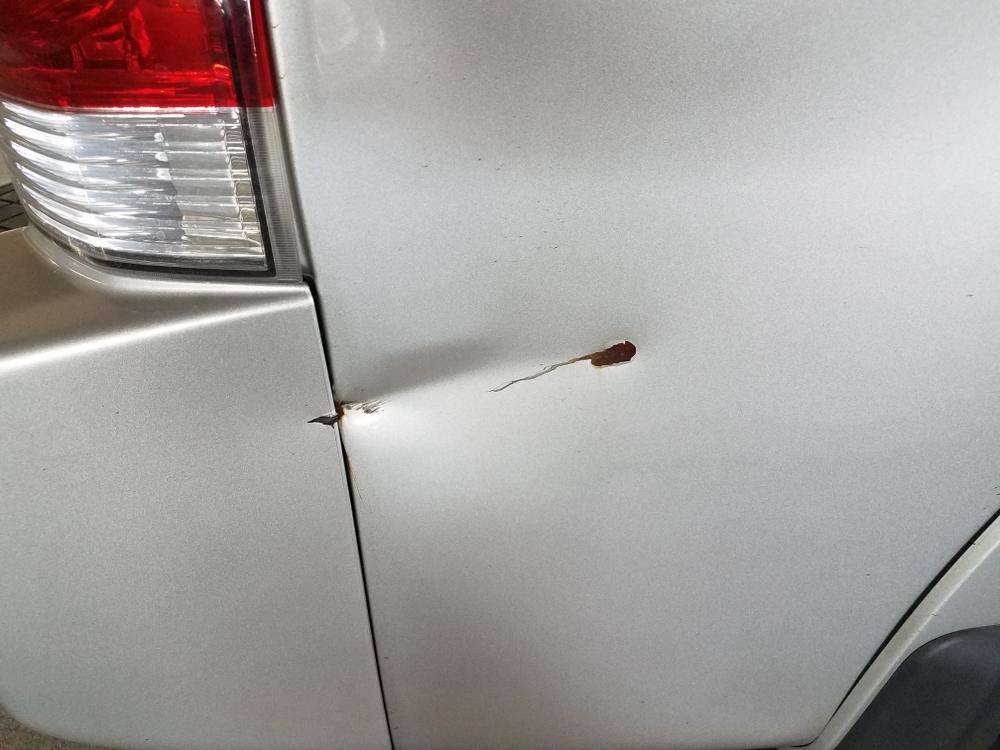dent: (336, 340, 508, 421)
scratch: (472, 337, 646, 399)
